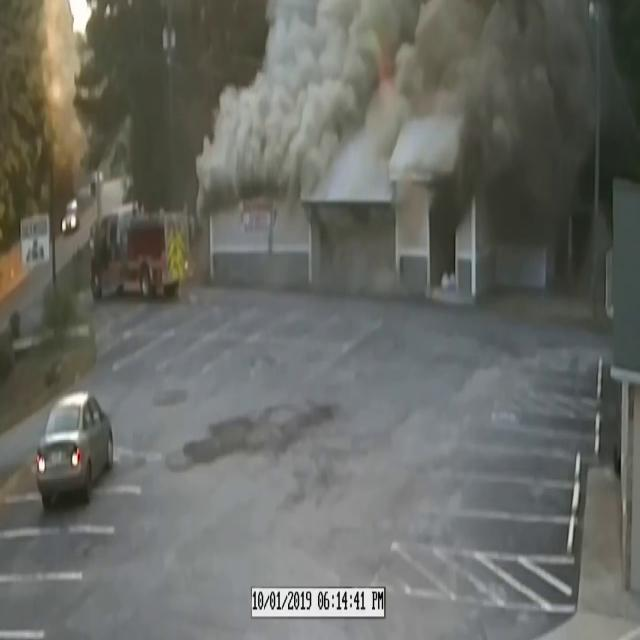Smoke: (200, 1, 640, 256)
